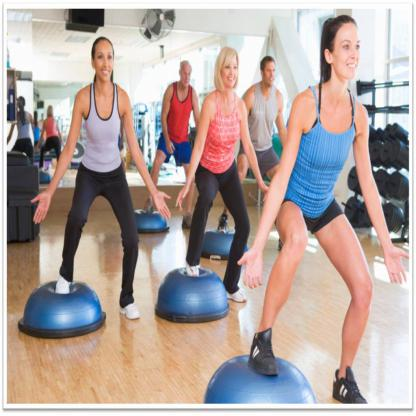face: (335, 22, 361, 81), (95, 42, 114, 80), (222, 55, 238, 88), (265, 61, 277, 86), (182, 65, 192, 88)
